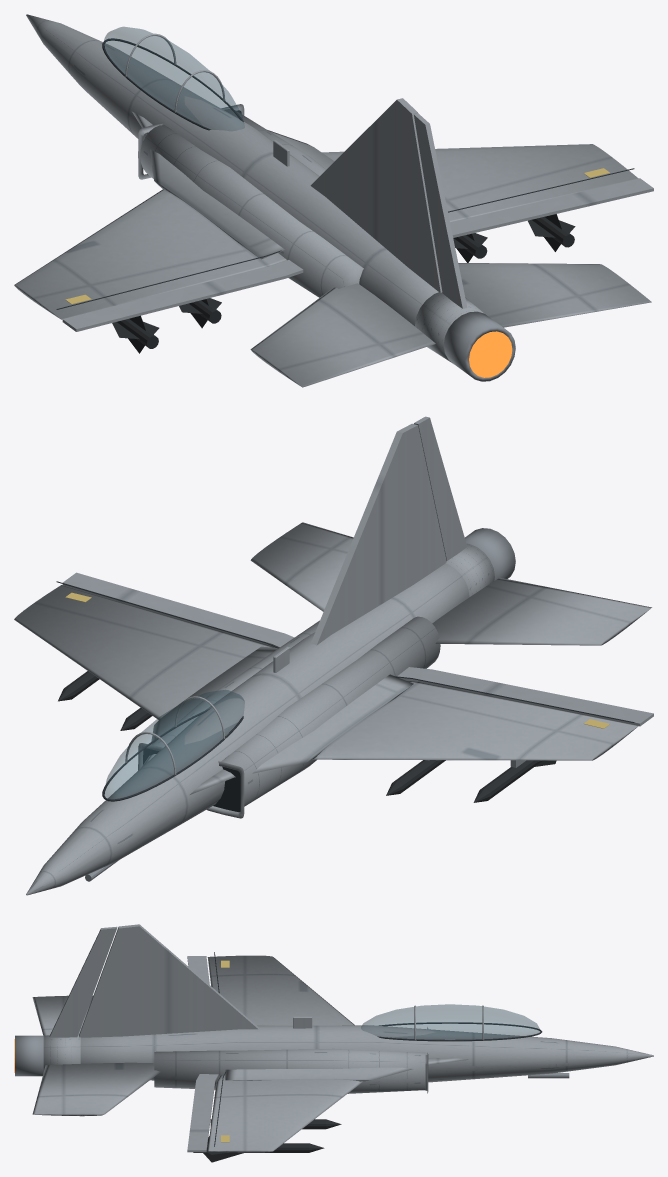
Rendered from wings_fa50.glb.
3 views of the same model, one above another, from view 1: azimuth 30°, elevation 25°; view 2: azimuth 150°, elevation 25°; view 3: azimuth 270°, elevation 25° (orthographic). The views are drawn at different scales.
Parts seen in each view (by area): view 1: airframe_static, tailplane_L, tailplane_R, canopy, elevon_L, rudder_1, elevon_R, afterburner, missile_R2, missile_L2, missile_L1, missile_R1; view 2: airframe_static, tailplane_L, canopy, tailplane_R, elevon_L, elevon_R, rudder_1, missile_L2, missile_L1; view 3: airframe_static, canopy, tailplane_R, rudder_1, elevon_R, tailplane_L, missile_R2, elevon_L.
Part boxes in pixels (x1,y1,x2,y2): airframe_static: (14, 14, 638, 381); tailplane_L: (250, 283, 435, 387); tailplane_R: (458, 263, 651, 327); canopy: (102, 26, 244, 130); elevon_L: (62, 260, 303, 331); rudder_1: (414, 113, 467, 308); elevon_R: (450, 178, 653, 237); afterburner: (469, 331, 512, 377); missile_R2: (528, 214, 575, 251); missile_L2: (112, 315, 159, 353); missile_L1: (179, 298, 221, 328); missile_R1: (453, 233, 487, 262); airframe_static: (14, 423, 638, 895); tailplane_L: (432, 577, 651, 645); canopy: (102, 690, 244, 801); tailplane_R: (250, 522, 353, 611); elevon_L: (397, 667, 653, 726); elevon_R: (62, 572, 294, 647); rudder_1: (414, 416, 467, 560); missile_L2: (473, 760, 556, 802); missile_L1: (386, 760, 445, 795); airframe_static: (15, 924, 653, 1152); canopy: (361, 1004, 542, 1041); tailplane_R: (32, 1062, 160, 1116); rudder_1: (49, 926, 117, 1037); elevon_R: (187, 1074, 218, 1152); tailplane_L: (32, 995, 92, 1035); missile_R2: (193, 1136, 324, 1162); elevon_L: (187, 956, 209, 984).
Bounding box in the file's own units: 9.45 × 3.83 × 13.15.
7 materials, 1 textured.
